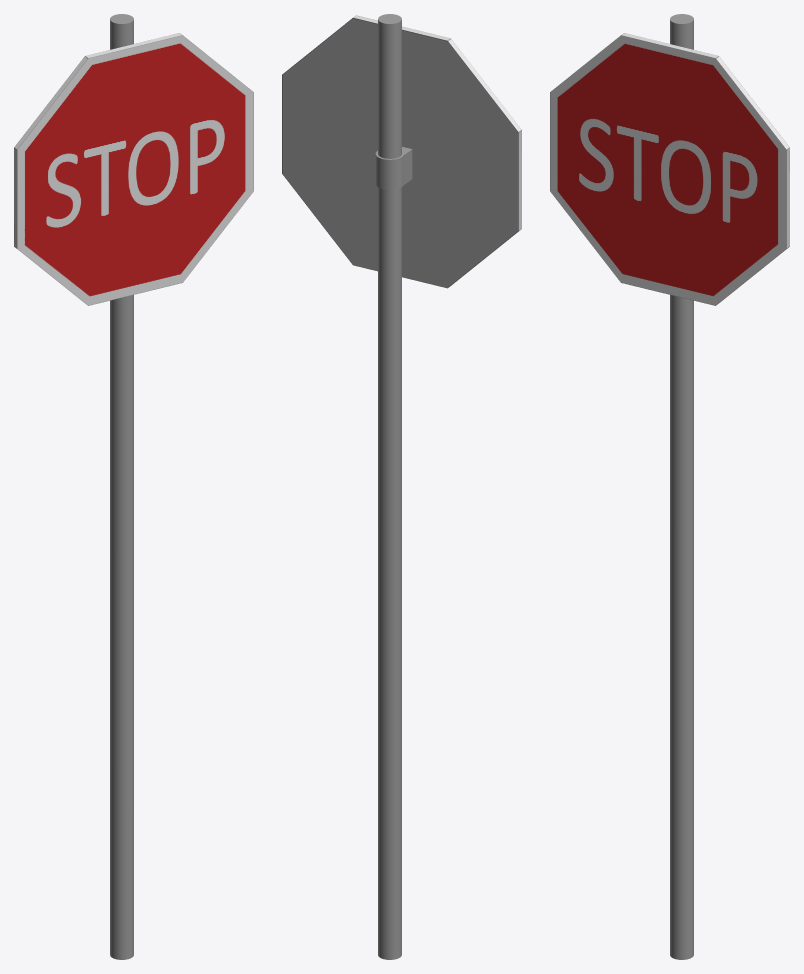
File: sign_1WTextures.fbx
3 views of the same model, side by side, from view 1: azimuth 30°, elevation 25°; view 2: azimuth 150°, elevation 25°; view 3: azimuth 330°, elevation 25° (orthographic).
Visible parts, largest first — view 1: pCube3; view 2: pCube3; view 3: pCube3.
Boxes of the visible parts, x1,y1,x2,y2 form: pCube3: (14, 14, 253, 959); pCube3: (282, 14, 521, 959); pCube3: (550, 14, 789, 959).
Size of the model in its own units: 11.37 by 42.96 by 1.74.
1 material, 1 textured.
